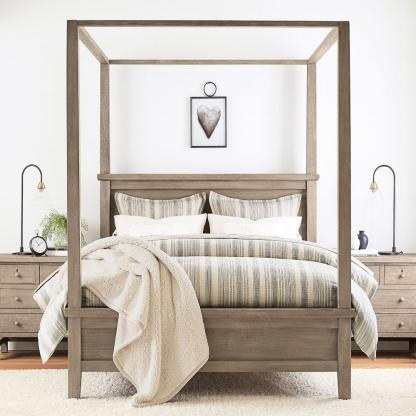bed: (78, 171, 344, 403)
clock: (30, 227, 52, 255)
light: (15, 160, 51, 249), (368, 163, 399, 258)
table: (0, 250, 64, 366), (350, 251, 413, 360)
